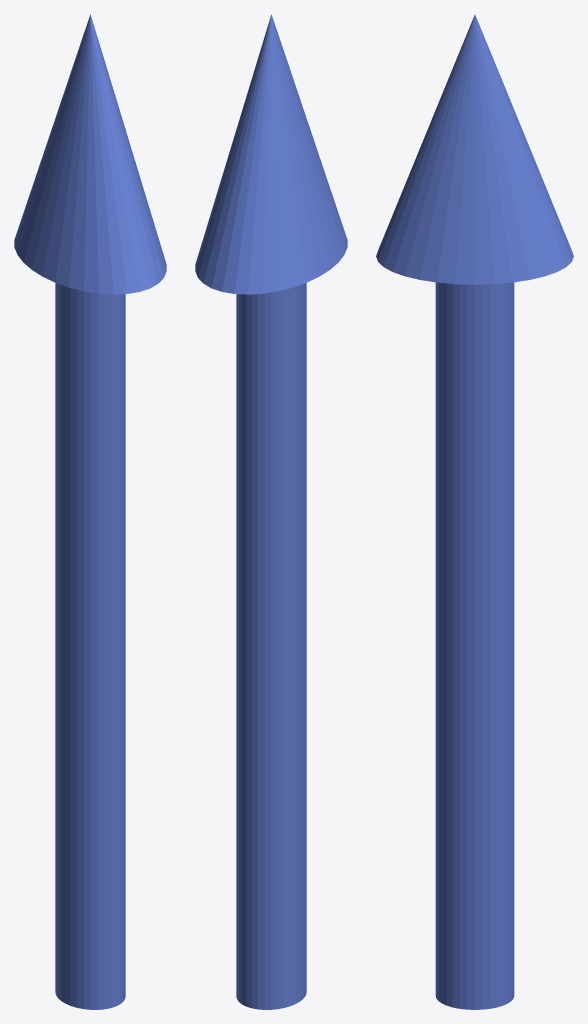
Rendered from Arrow.gltf.
3 views of the same model, side by side, from view 1: azimuth 30°, elevation 25°; view 2: azimuth 150°, elevation 25°; view 3: azimuth 270°, elevation 25° (orthographic).
Parts seen in each view (by area): view 1: Cylinder, Cone; view 2: Cylinder, Cone; view 3: Cylinder, Cone.
Part boxes in pixels (bbox=[...]): Cylinder: bbox=[55, 283, 125, 1009]; Cone: bbox=[14, 14, 166, 294]; Cylinder: bbox=[236, 283, 306, 1009]; Cone: bbox=[195, 14, 347, 294]; Cylinder: bbox=[435, 282, 514, 1009]; Cone: bbox=[376, 14, 573, 284].
Bounding box in the file's own units: 0.5883 × 4.71 × 0.8613.
2 materials, 2 textured.
